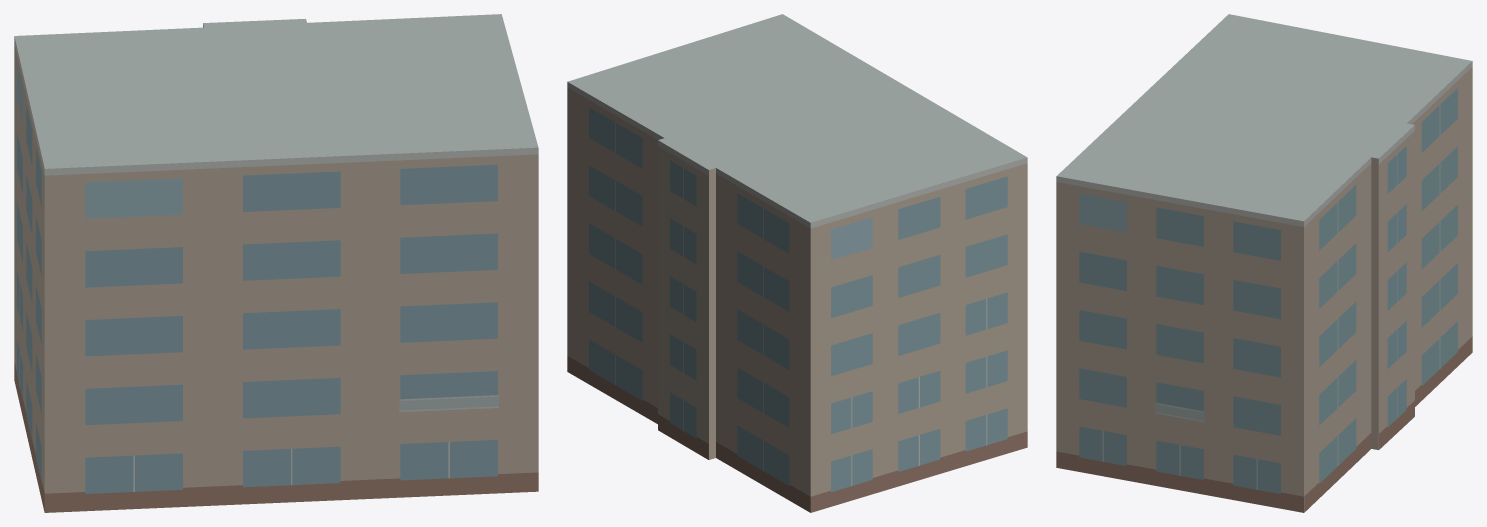
The model's file is survey-upis-32667283.glb.
The picture shows the model from 3 angles, left to right: view 1: azimuth 30°, elevation 25°; view 2: azimuth 150°, elevation 25°; view 3: azimuth 270°, elevation 25°; orthographic projection. The views are drawn at different scales.
Visible parts, largest first — view 1: survey-upis-32667283.tmp; view 2: survey-upis-32667283.tmp; view 3: survey-upis-32667283.tmp.
Part boxes in pixels (box(x1,y1,x2,y2)): survey-upis-32667283.tmp: box(14, 14, 538, 512); survey-upis-32667283.tmp: box(567, 14, 1027, 512); survey-upis-32667283.tmp: box(1056, 14, 1472, 512).
Bounding box in the file's own units: 18.93 × 12.4 × 16.05.
